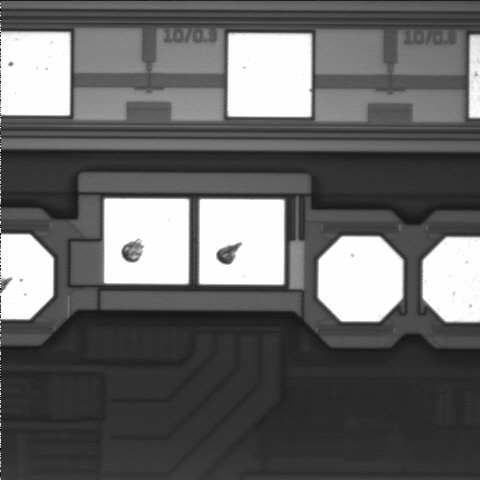pad: (199, 199, 284, 285), (104, 199, 189, 284), (318, 237, 403, 321), (228, 33, 311, 117)
